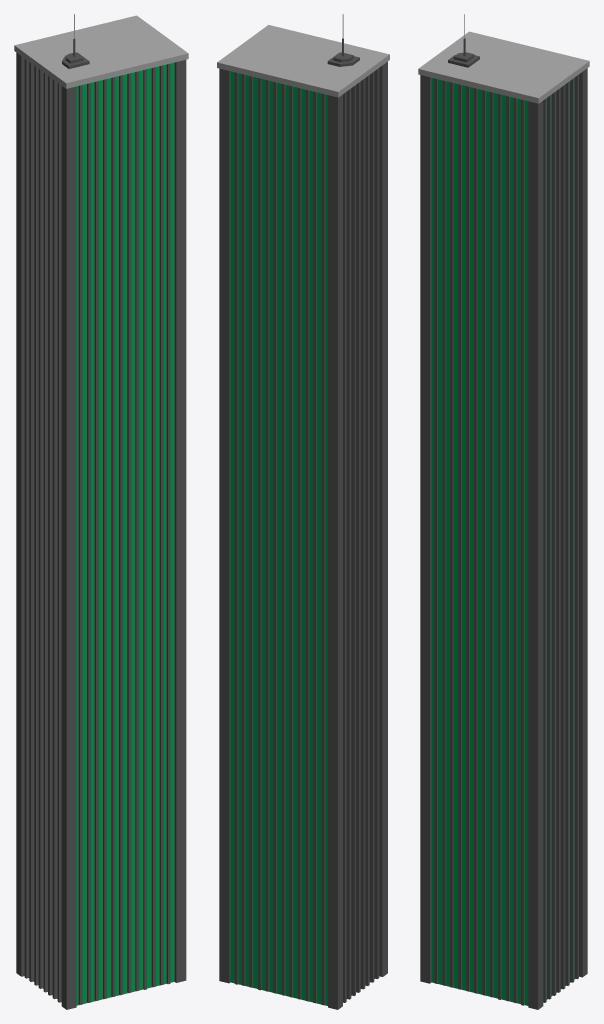
File: building4.fbx
The picture shows the model from 3 angles, left to right: view 1: azimuth 30°, elevation 25°; view 2: azimuth 150°, elevation 25°; view 3: azimuth 330°, elevation 25°; orthographic projection.
Parts seen in each view (by area): view 1: pCube49; view 2: pCube49; view 3: pCube49.
Boxes of the visible parts, left/top/right/bottom form: pCube49: left=14, top=14, right=188, bottom=1009; pCube49: left=217, top=14, right=389, bottom=1009; pCube49: left=418, top=14, right=589, bottom=1009.
Size of the model in its own units: 22.5 by 171 by 16.5.
